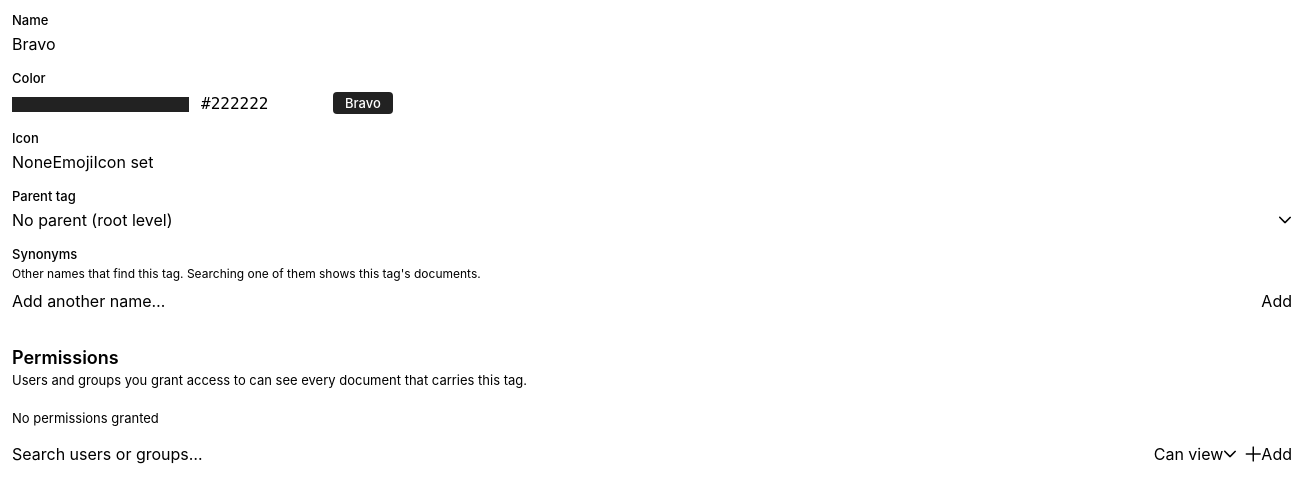
Scenario: TagForm — synonyms (#280) › warns while typing that another visible tag already uses the word
The image size is (1304, 504).
Type "Alpha" into the field with id "tag-synonym". click: (633, 301)
box: [12, 291, 1253, 311]
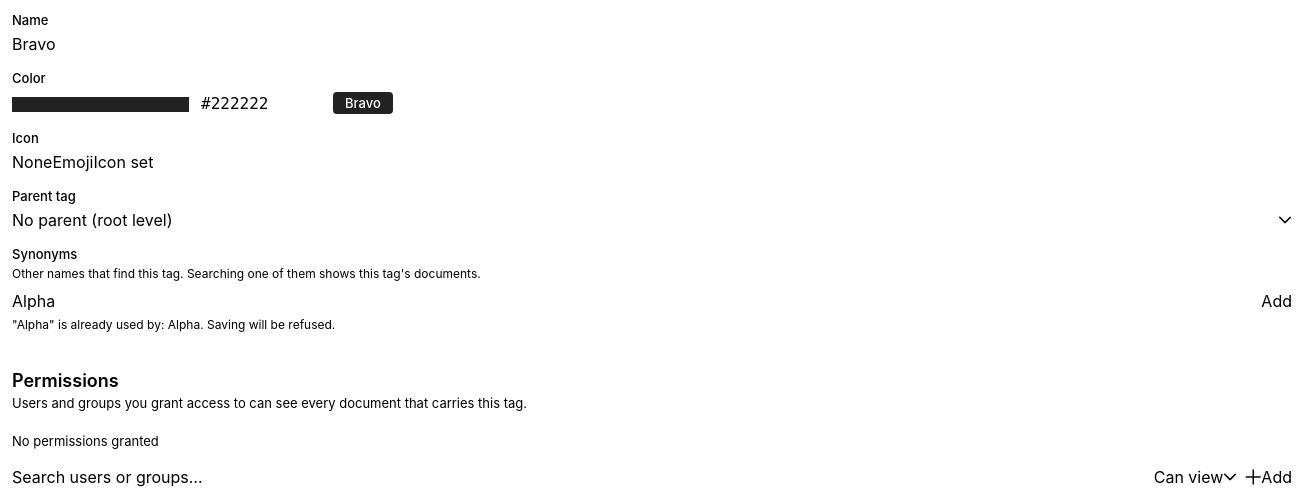
Expected: the 1st button "Add" is enabled, [1261, 291, 1292, 311]
Result: the message with class "synonym-notice" shows "Alpha" at [12, 317, 335, 332]
